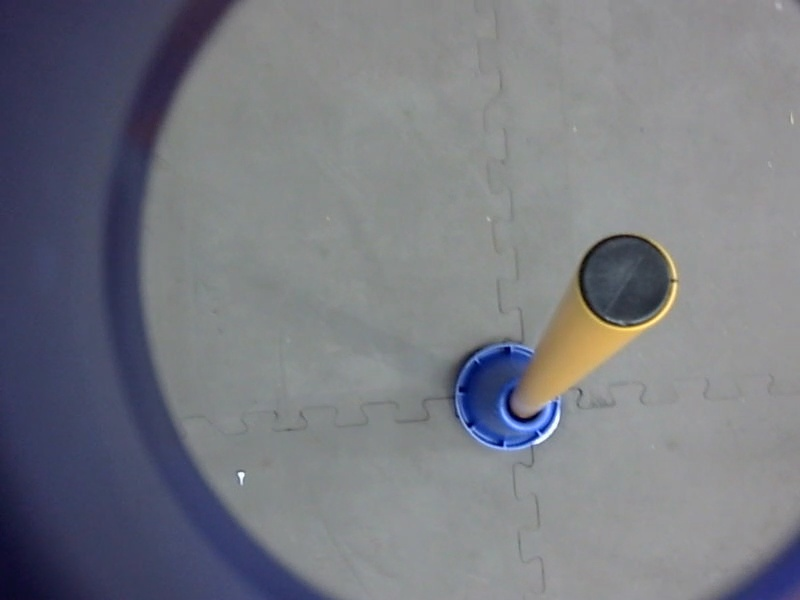tip: (569, 227, 686, 339)
